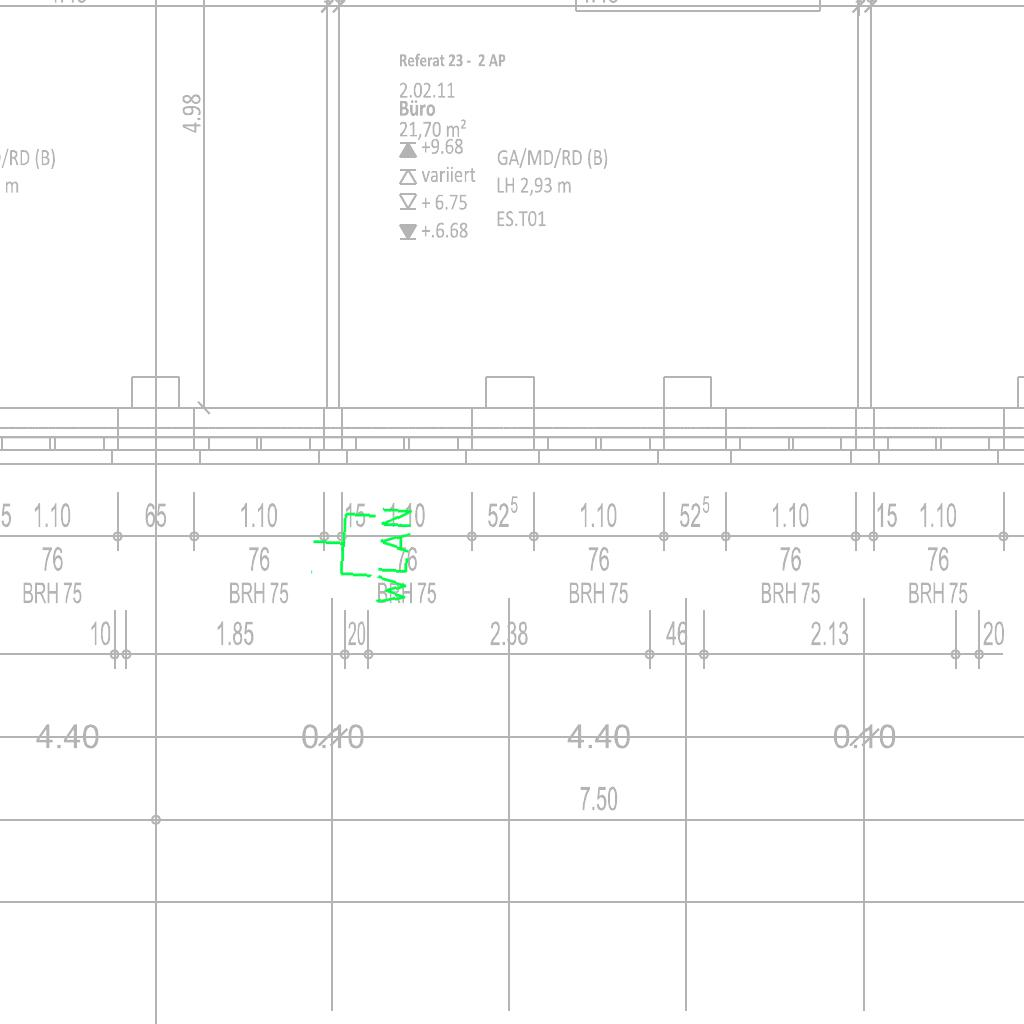WLAN: (305, 498, 417, 611)
